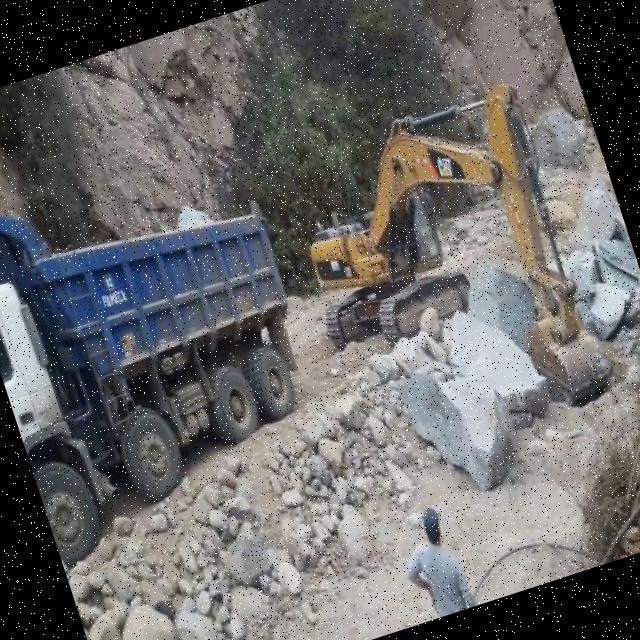Dump Truck: (0, 132, 353, 571)
Excavator: (272, 78, 619, 471)
